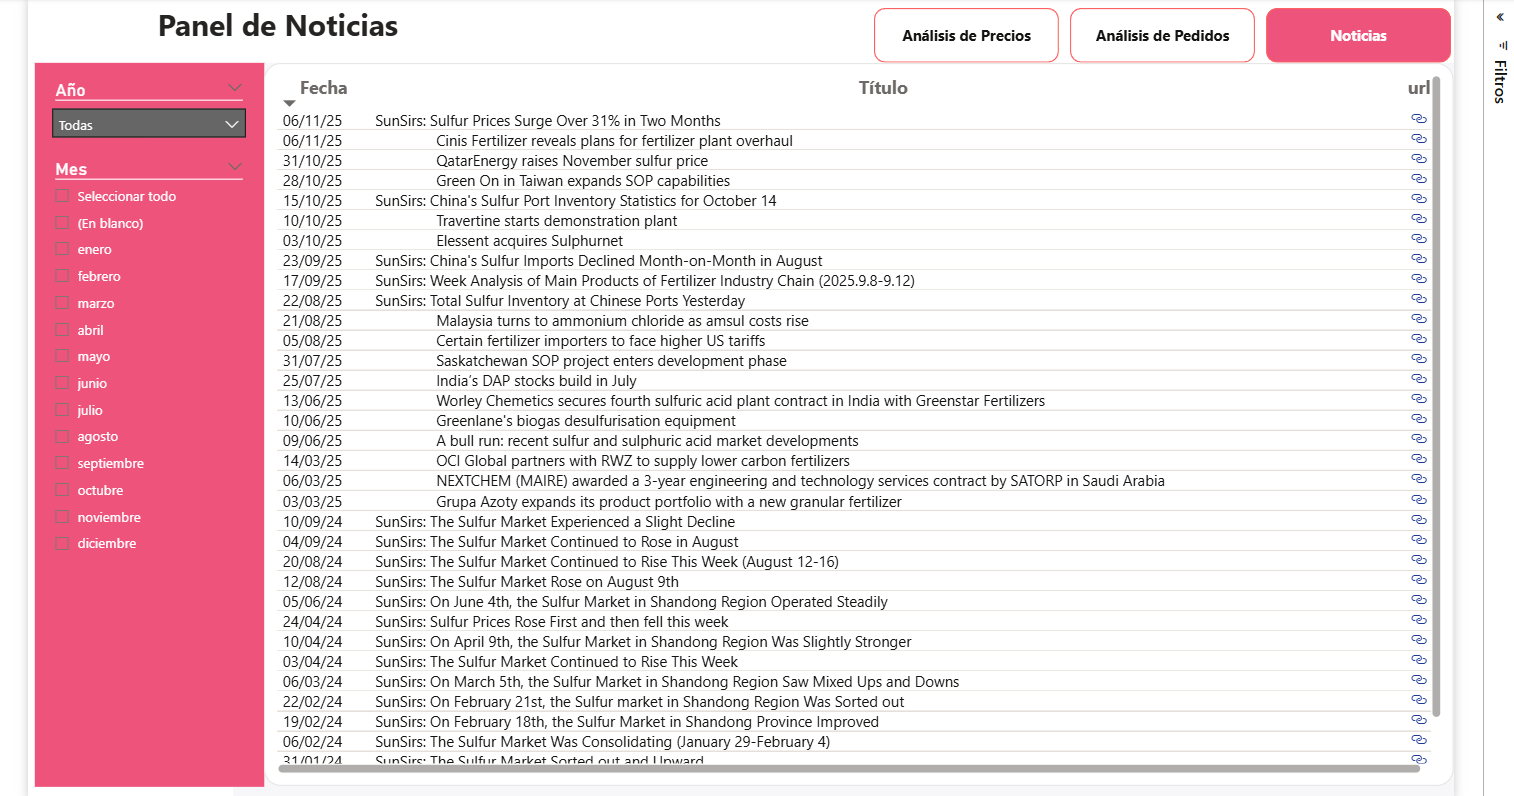

What the dashboard file says about the page in this screenshot:
{"tool":"powerbi","page":{"name":"Noticias","canvas":[1280,720],"ordinal":2},"visuals":[{"type":"slicer","fields":{"Values":["Calendario.Año"]},"box":[11.7,68.1,193.6,70],"z":0},{"type":"slicer","fields":{"Values":["Calendario.NombreMes"]},"box":[11.7,241.2,193.6,392],"z":1000},{"type":"textbox","box":[110.9,0,432.8,68.1],"z":2000},{"type":"pageNavigator","box":[759.6,8.8,520.4,49.6],"z":3000},{"type":"tableEx","fields":{"Values":["Sulfur news etl.date_raw","Sulfur news etl.title_raw","Sulfur news etl.article_url"]},"box":[211.9,58.4,1068.3,649.1],"z":4000},{"type":"textFilter25A4896A83E0487089E2B90C9AE57C8A","title":"Búsqueda","fields":{"field":["Sulfur news etl.article_url"]},"box":[15.6,145.9,190.6,70],"z":5000}]}

Visuals, with their boxes on the page's 1280x720 design canvas (x1, y1, x2, y2). These are canvas units, not pixel positions in the 1514x796 screenshot, which may show the page scaled, cropped or inside an application window:
slicer - Calendario.Año: locate(12, 68, 205, 138)
slicer - Calendario.NombreMes: locate(12, 241, 205, 633)
textbox: locate(111, 0, 544, 68)
pageNavigator: locate(760, 9, 1280, 58)
tableEx - Sulfur news etl.date_raw x Sulfur news etl.title_raw: locate(212, 58, 1280, 708)
"Búsqueda" textFilter25A4896A83E0487089E2B90C9AE57C8A: locate(16, 146, 206, 216)
